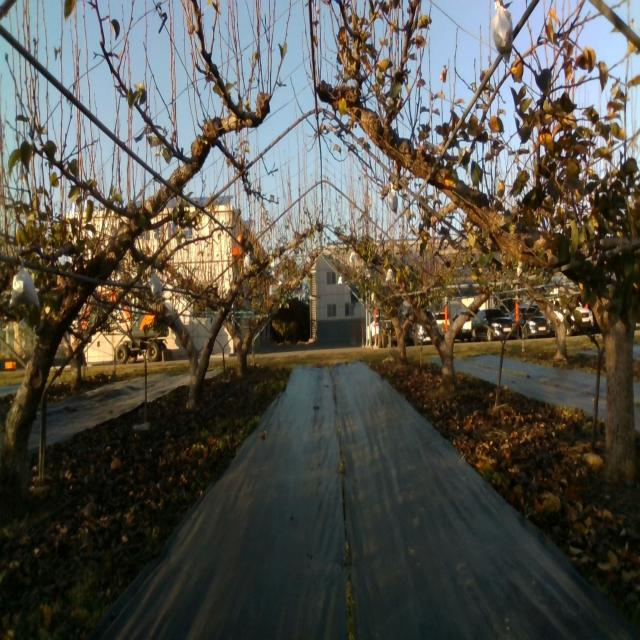pearbags: (492, 0, 514, 66), (9, 268, 40, 309), (150, 273, 164, 299)
